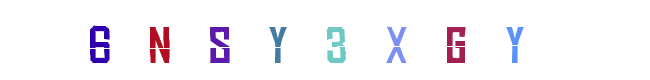3: (265, 0, 345, 80)
6: (59, 0, 139, 80)
G: (301, 0, 381, 80)
N: (177, 0, 257, 80)
S: (237, 0, 317, 80)
X: (287, 0, 367, 80)
Y: (241, 0, 321, 80), (358, 0, 438, 80)
